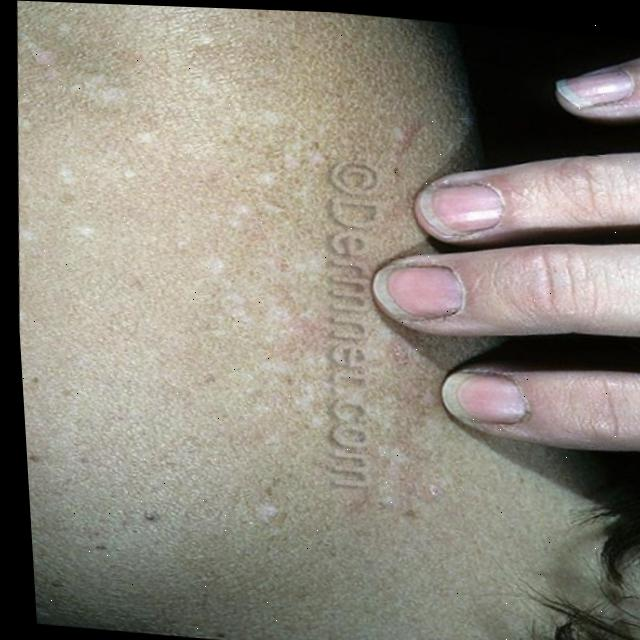Eczema: (1, 10, 403, 470)
